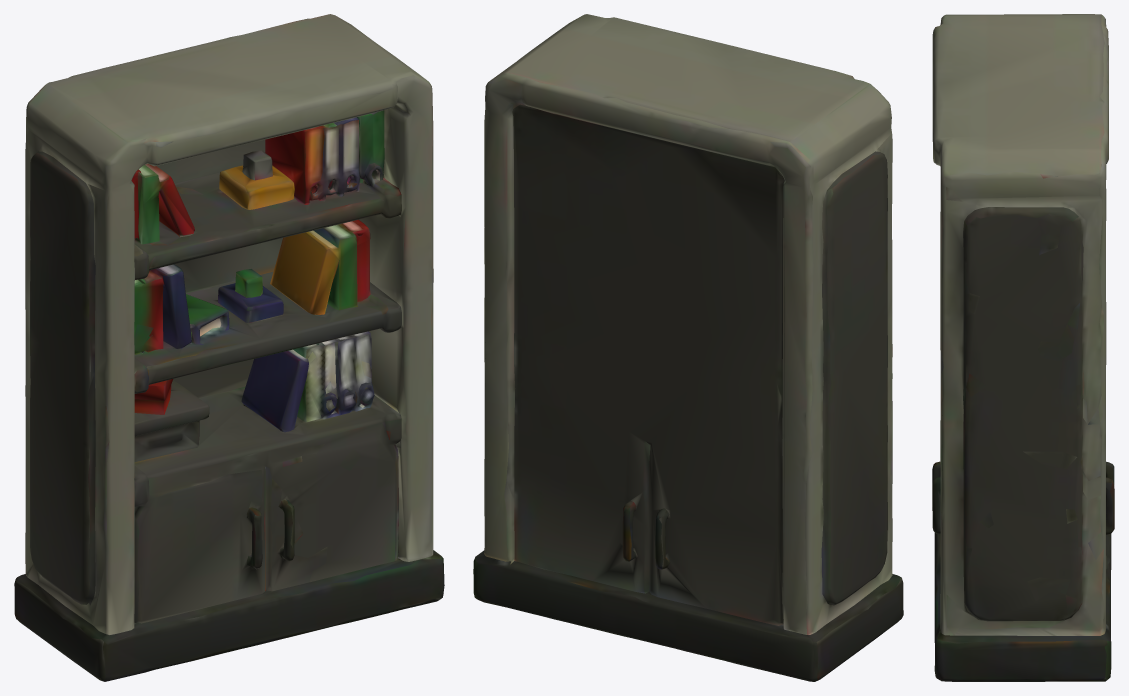
File: bookshelf.glb
3 renders of one model, left to right at view 1: azimuth 30°, elevation 25°; view 2: azimuth 150°, elevation 25°; view 3: azimuth 270°, elevation 25°, orthographic. The views are drawn at different scales.
Parts seen in each view (by area): view 1: geometry_0; view 2: geometry_0; view 3: geometry_0.
Boxes of the visible parts, <box> form: geometry_0: <box>14,14,444,681</box>; geometry_0: <box>473,14,903,681</box>; geometry_0: <box>932,14,1114,681</box>.
Size of the model in its own units: 0.6821 by 1 by 0.3185.
Materials: 1 (1 with a texture image).
